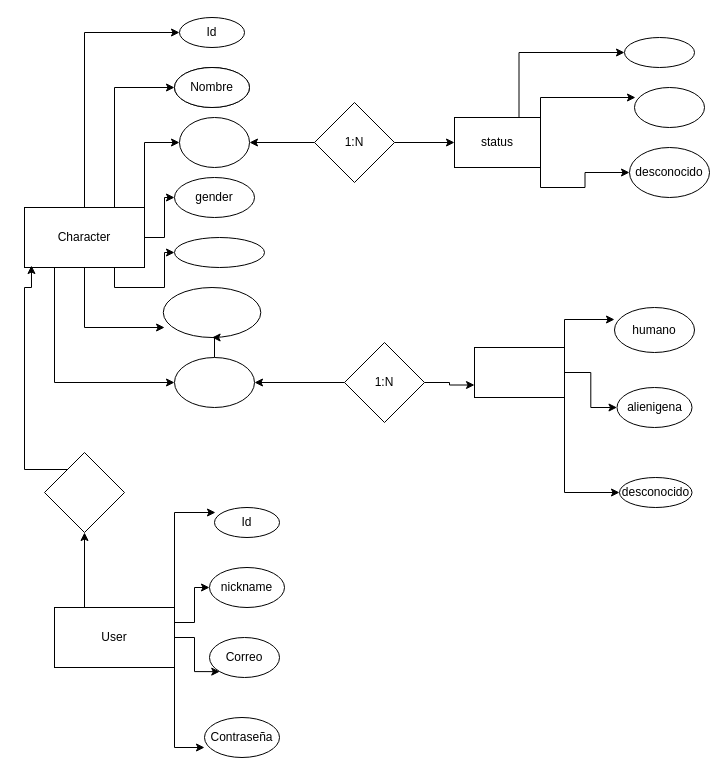
This 727x775 diagram has some shape labels left out. Each missing label, with the centre of its shape:
FK Estatus: (x=214, y=142)
FK origen: (x=219, y=252)
image: (x=211, y=312)
muerto: (x=669, y=107)
n:n: (x=84, y=492)
specie: (x=214, y=382)
species: (x=519, y=372)
vivo: (x=659, y=52)
